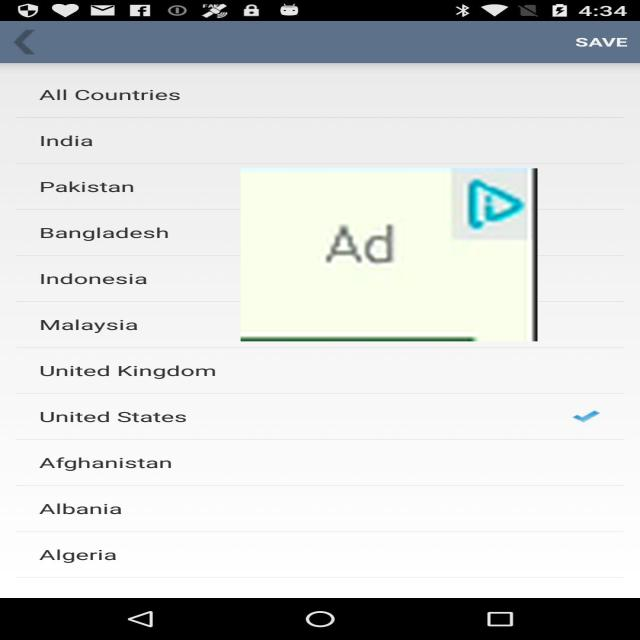sneaking: (240, 168, 538, 342)
